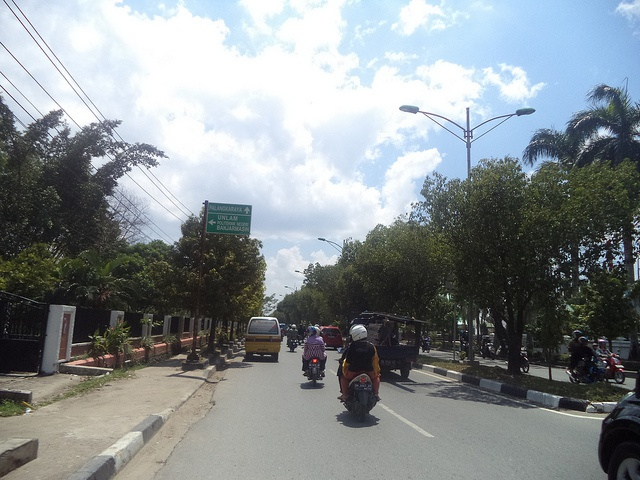non-vehicle: (334, 347, 381, 420), (566, 355, 611, 384), (300, 341, 327, 385), (596, 352, 625, 384), (518, 346, 529, 374), (479, 341, 495, 359), (285, 337, 299, 351), (420, 337, 431, 352), (459, 338, 467, 357)
